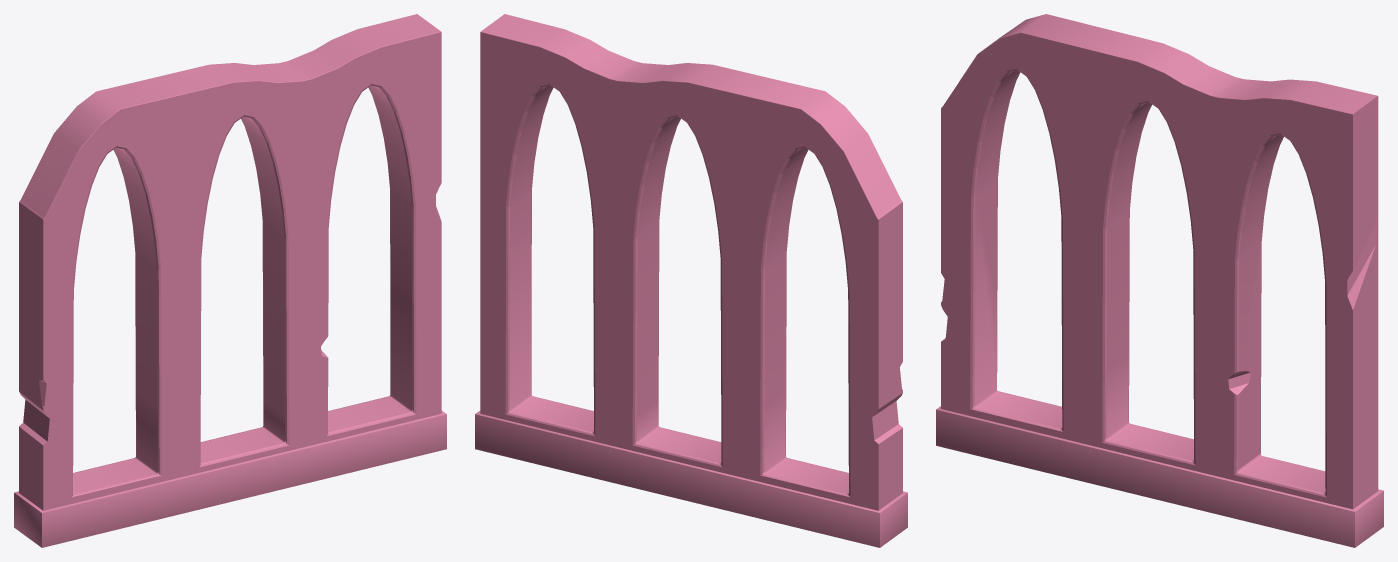
File: ruiny_sciana2.fbx
3 views of the same model, side by side, from view 1: azimuth 30°, elevation 25°; view 2: azimuth 150°, elevation 25°; view 3: azimuth 330°, elevation 25° (orthographic). The views are drawn at different scales.
Visible parts, largest first — view 1: ruiny_sciana1; view 2: ruiny_sciana1; view 3: ruiny_sciana1.
Part boxes in pixels (x1,y1,x2,y2): ruiny_sciana1: (14, 14, 446, 547); ruiny_sciana1: (475, 14, 907, 547); ruiny_sciana1: (936, 14, 1383, 547).
Size of the model in its own units: 294 by 290 by 35.3.
